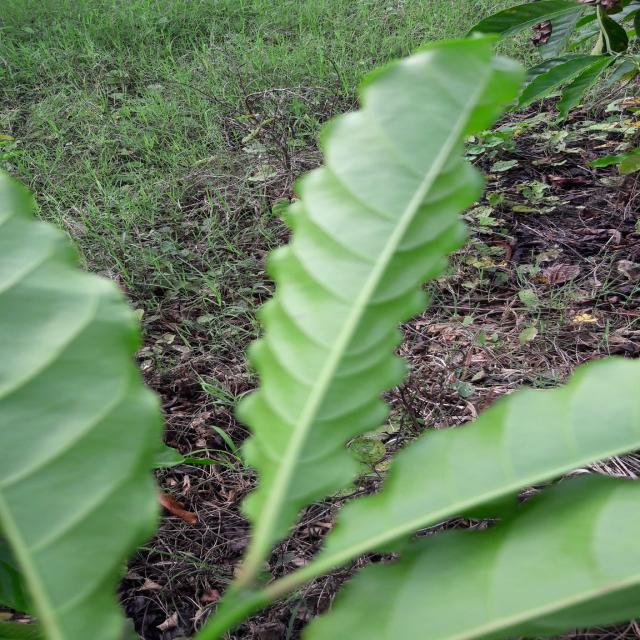Sanas: (236, 32, 524, 569)
